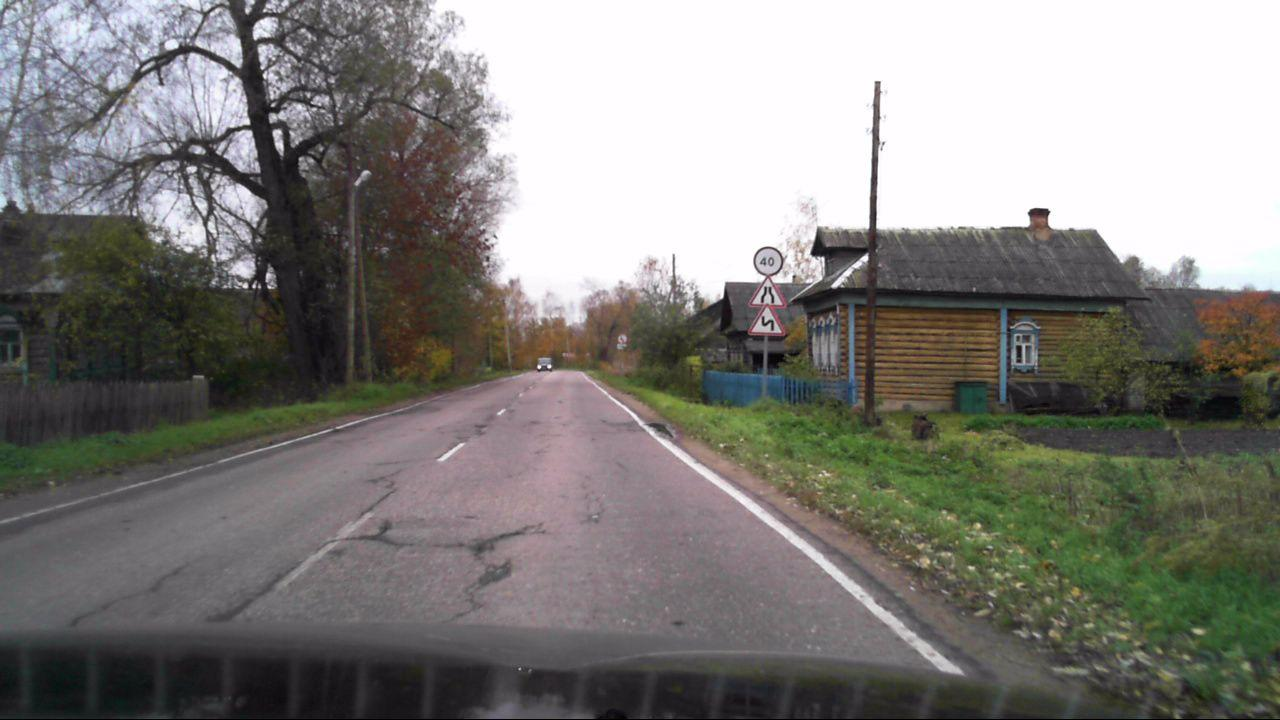1_12_2: (747, 305, 784, 335)
1_20_1: (748, 276, 785, 308)
2_6: (617, 334, 628, 343)
3_24: (751, 245, 784, 275)
8_1_1: (616, 344, 627, 350)
